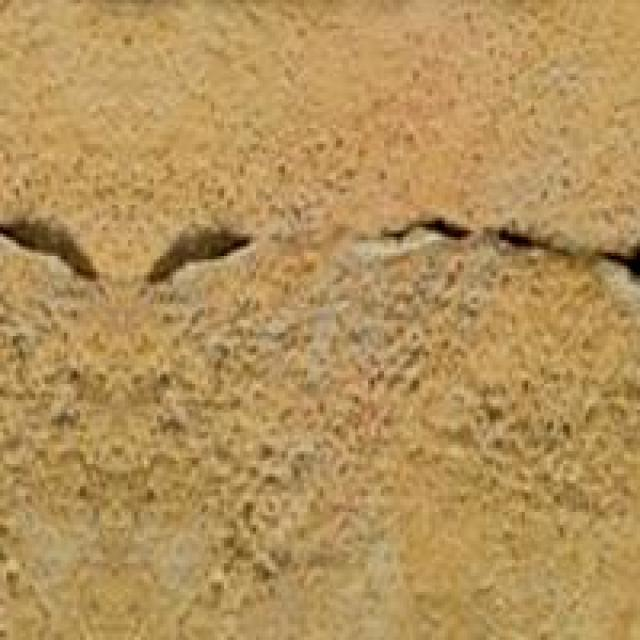crack: (376, 172, 640, 318), (0, 188, 256, 322)
